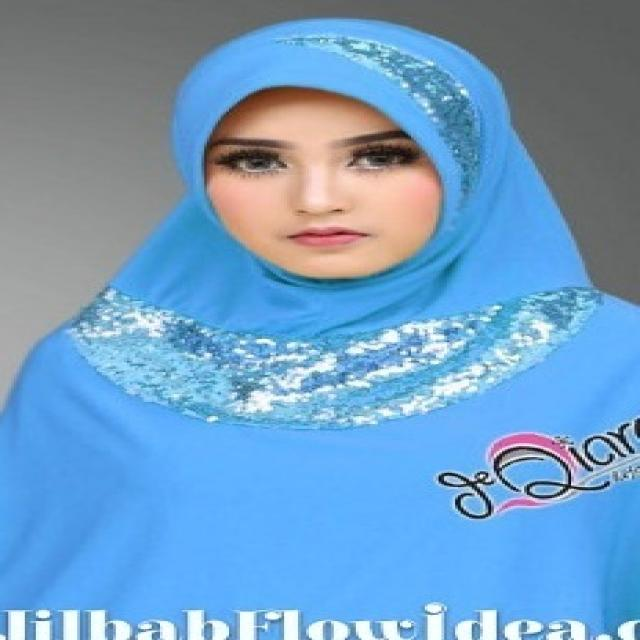head: (182, 10, 504, 296)
